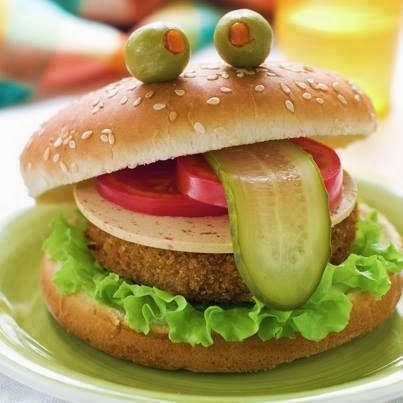hamburger: (3, 9, 403, 399)
